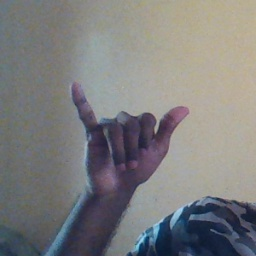J: (69, 80, 193, 195)
